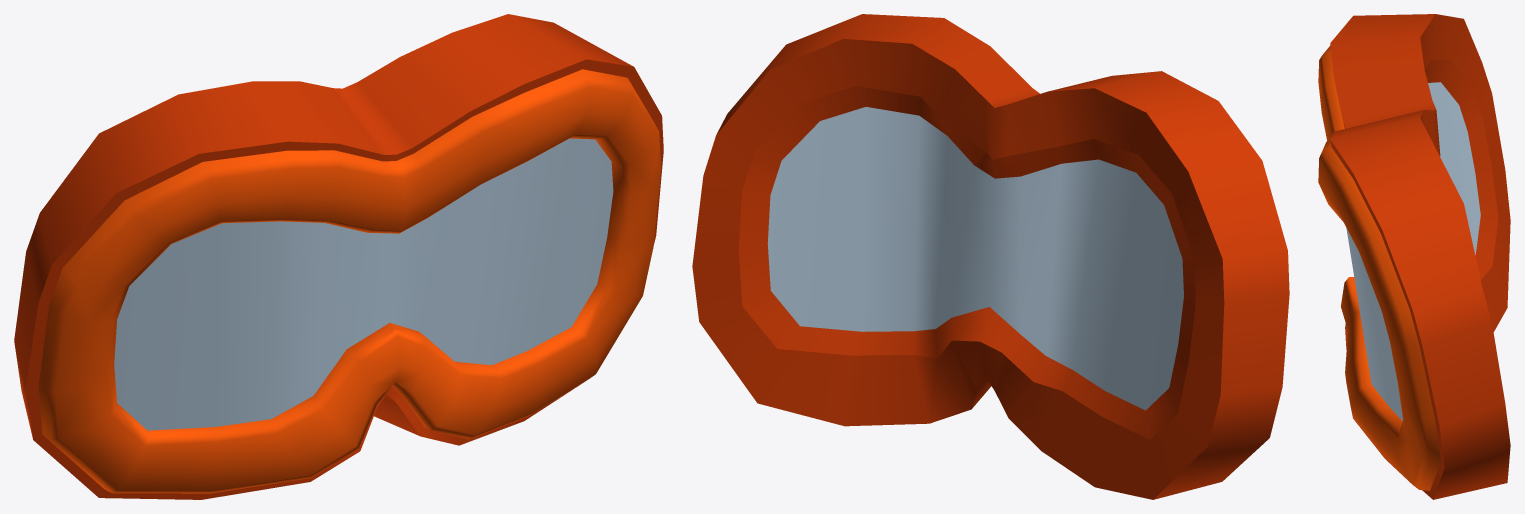
Rendered from Glasses_16_03.fbx.
3 renders of one model, left to right at view 1: azimuth 30°, elevation 25°; view 2: azimuth 150°, elevation 25°; view 3: azimuth 270°, elevation 25°, orthographic. The views are drawn at different scales.
Visible parts, largest first — view 1: Glasses_16_03; view 2: Glasses_16_03; view 3: Glasses_16_03.
Boxes of the visible parts, bbox=[...] form: Glasses_16_03: bbox=[14, 14, 663, 499]; Glasses_16_03: bbox=[692, 14, 1289, 499]; Glasses_16_03: bbox=[1318, 14, 1510, 499].
Size of the model in its own units: 25.81 by 15.59 by 8.18.
